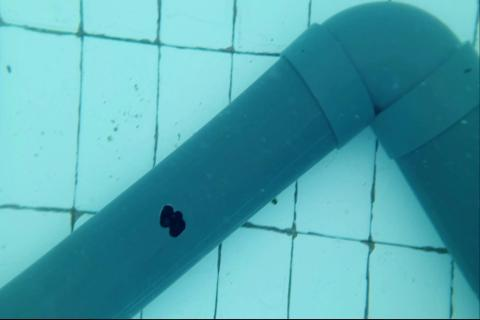kebocoran: (159, 204, 187, 239)
